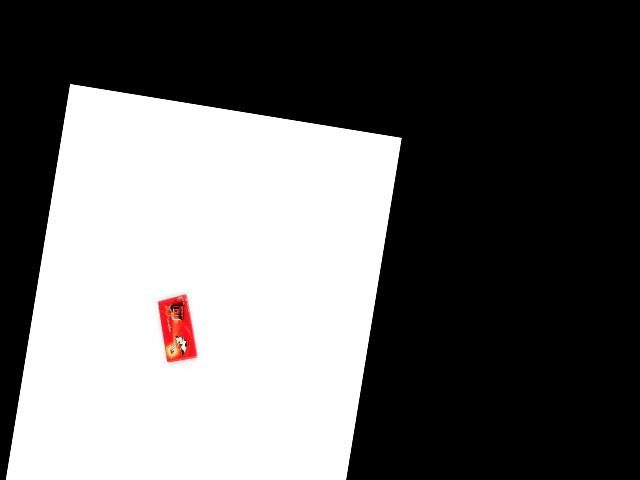chocolate: (147, 289, 207, 365)
